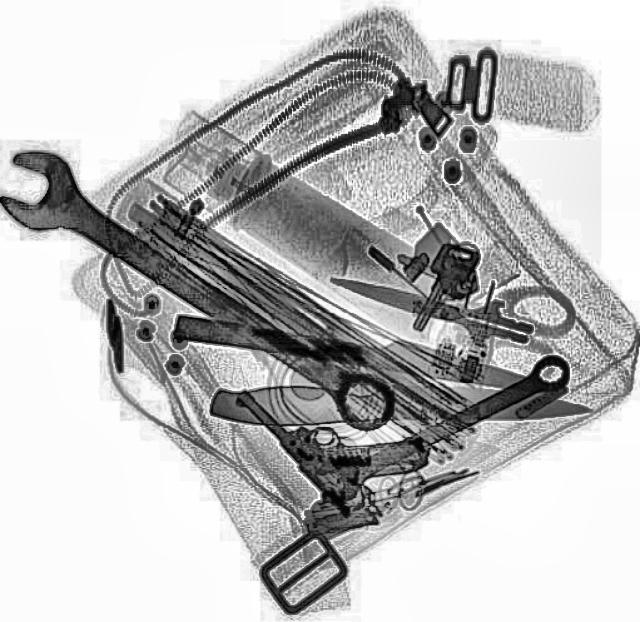Gun: (230, 332, 434, 522)
Knife: (170, 302, 564, 402), (322, 258, 536, 356), (206, 379, 590, 433)
Wrench: (1, 152, 410, 442), (303, 348, 577, 506)
